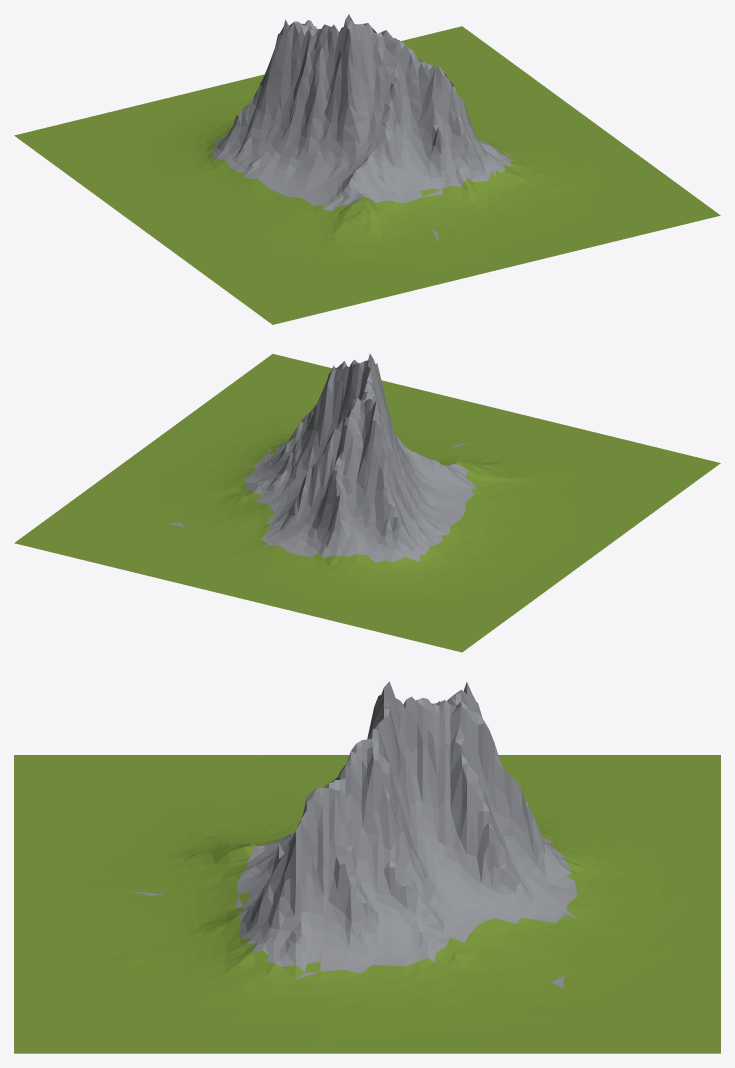
File: moutain_bg.glb
The picture shows the model from 3 angles, top to bottom: view 1: azimuth 30°, elevation 25°; view 2: azimuth 150°, elevation 25°; view 3: azimuth 270°, elevation 25°; orthographic projection. The views are drawn at different scales.
Parts seen in each view (by area): view 1: Plane; view 2: Plane; view 3: Plane.
Part boxes in pixels (<box>): Plane: <box>14,14,720,324</box>; Plane: <box>14,354,720,652</box>; Plane: <box>14,681,720,1053</box>.
Size of the model in its own units: 10 by 3.37 by 10.
